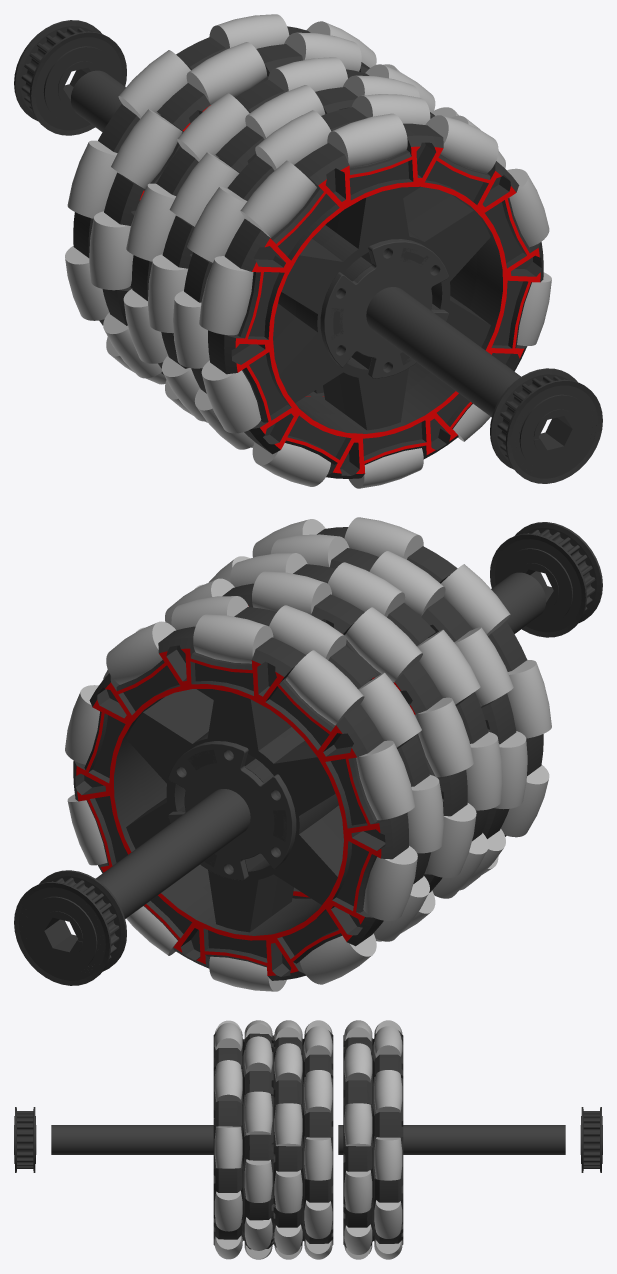
3 renders of one model, top to bottom at view 1: azimuth 30°, elevation 25°; view 2: azimuth 150°, elevation 25°; view 3: azimuth 270°, elevation 25°, orthographic. The views are drawn at different scales.
Visible parts, largest first — view 1: 6" Omni Wheel (1.125" Bearing Bore) (×3), 24t Aluminum Pulley (HTD 5mm, 9mm Wide, 1/2" Hex Bore) (×2), Spacer (Configurable) (×2), 1/2" Hex Bore Plastic Versahub (217-4009); view 2: 6" Omni Wheel (1.125" Bearing Bore) (×3), 24t Aluminum Pulley (HTD 5mm, 9mm Wide, 1/2" Hex Bore) (×2), Spacer (Configurable) (×2), 1/2" Hex Bore Plastic Versahub (217-4009); view 3: 6" Omni Wheel (1.125" Bearing Bore) (×3), Spacer (Configurable) (×2), 24t Aluminum Pulley (HTD 5mm, 9mm Wide, 1/2" Hex Bore) (×2).
Part boxes in pixels (x1,y1,x2,y2): 6" Omni Wheel (1.125" Bearing Bore) (×3): [65, 14, 551, 488]; 24t Aluminum Pulley (HTD 5mm, 9mm Wide, 1/2" Hex Bore) (×2): [14, 20, 602, 483]; Spacer (Configurable) (×2): [70, 70, 520, 416]; 1/2" Hex Bore Plastic Versahub (217-4009): [320, 239, 448, 378]; 6" Omni Wheel (1.125" Bearing Bore) (×3): [65, 517, 551, 991]; 24t Aluminum Pulley (HTD 5mm, 9mm Wide, 1/2" Hex Bore) (×2): [14, 522, 602, 985]; Spacer (Configurable) (×2): [96, 572, 546, 918]; 1/2" Hex Bore Plastic Versahub (217-4009): [168, 741, 296, 880]; 6" Omni Wheel (1.125" Bearing Bore) (×3): [213, 1020, 403, 1259]; Spacer (Configurable) (×2): [51, 1125, 565, 1154]; 24t Aluminum Pulley (HTD 5mm, 9mm Wide, 1/2" Hex Bore) (×2): [14, 1107, 602, 1172].
Bounding box in the file's own units: 0.1524 × 0.1524 × 0.3746.
